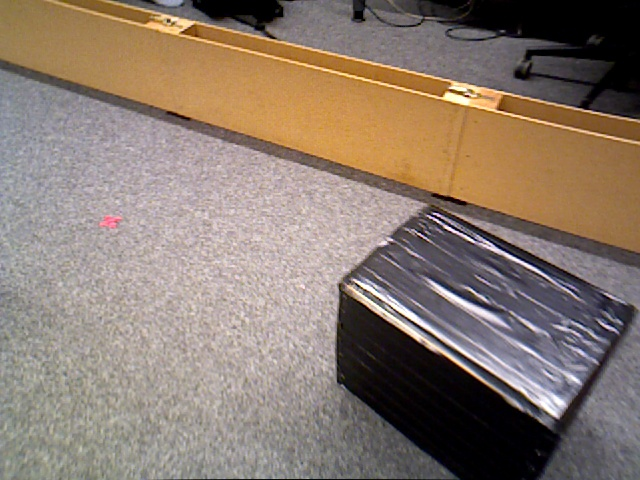push: (332, 203, 631, 477)
